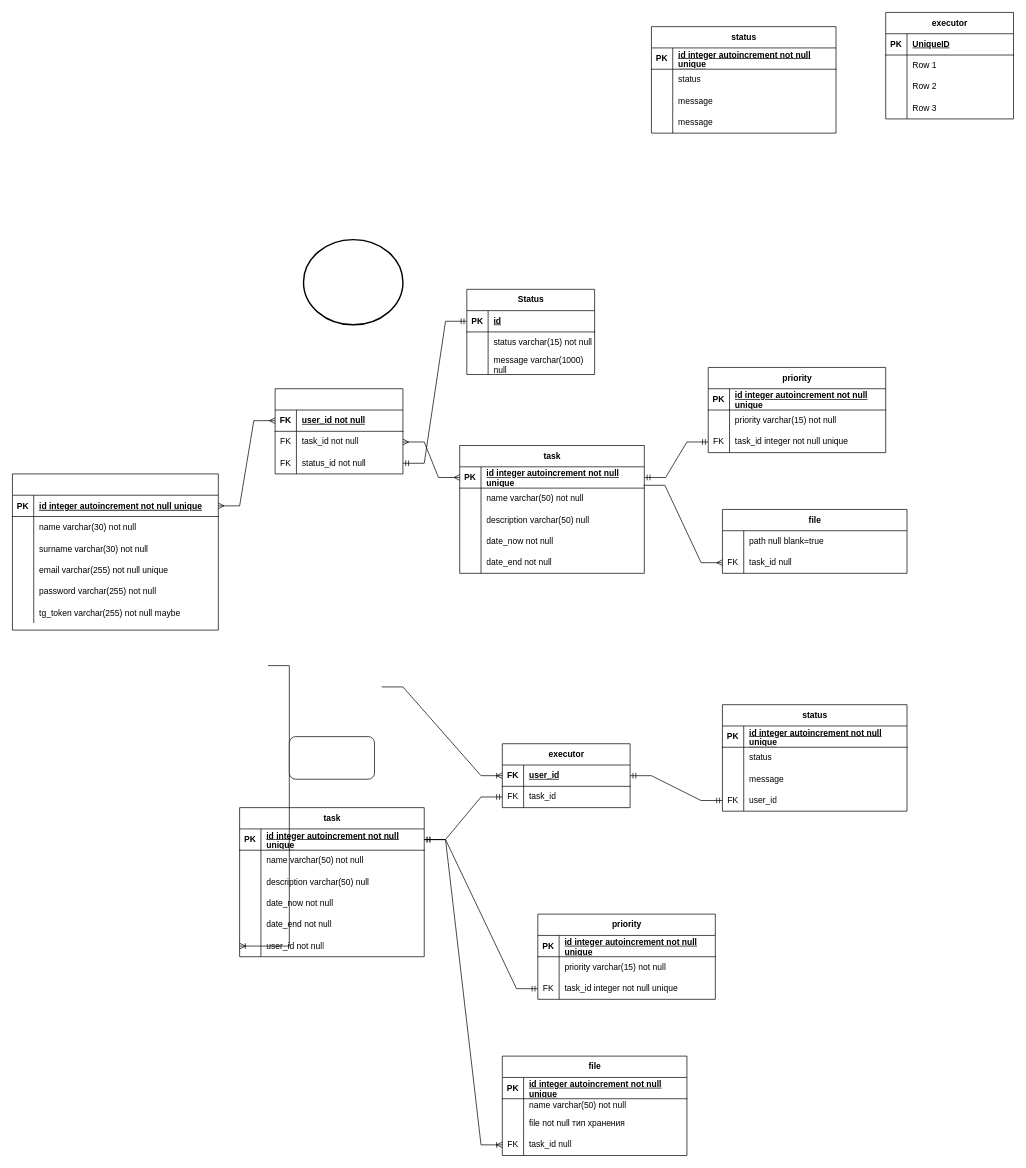
Some shapes in this 1026 by 1168 pixel diagram are drawn without their labels. Each missing label, with the box of its shape:
user: (12, 473, 218, 630)
user_task: (274, 388, 403, 474)
Вариант: (289, 736, 375, 779)
Предпочтительный вариант: (302, 239, 403, 325)
